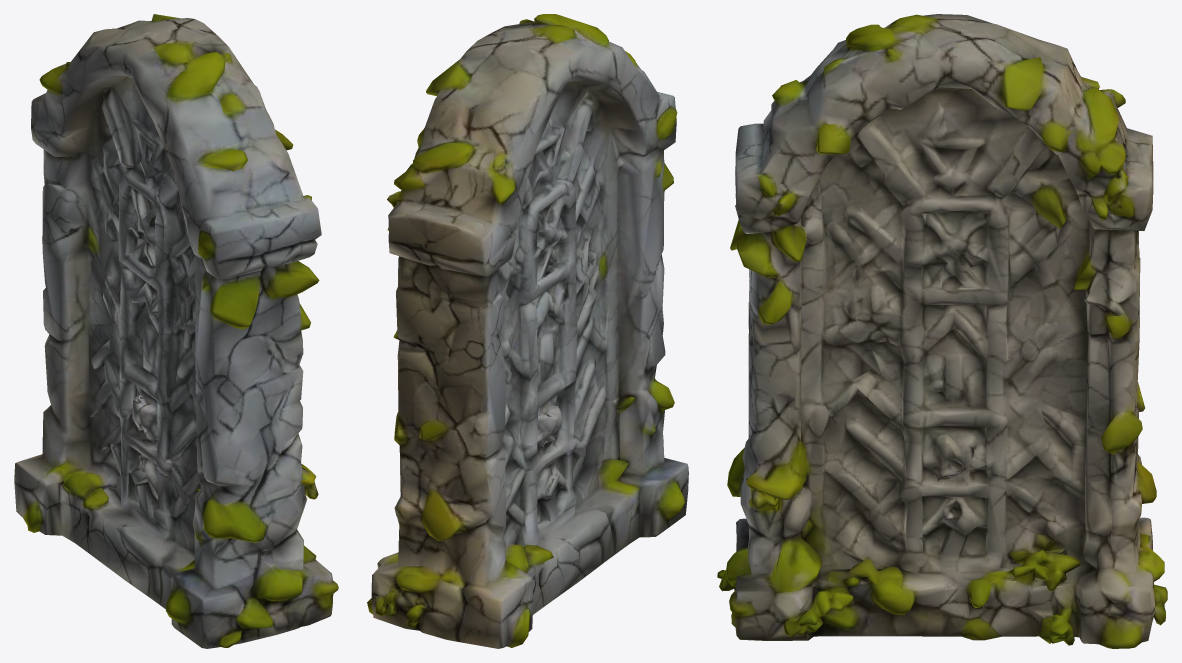
The model's file is ruin_grave_marker.glb.
3 views of the same model, side by side, from view 1: azimuth 30°, elevation 25°; view 2: azimuth 150°, elevation 25°; view 3: azimuth 270°, elevation 25° (orthographic). The views are drawn at different scales.
Visible parts, largest first — view 1: tripo_node_fa6c0dff-9632-4dbf-b76e-59324e9e4b20; view 2: tripo_node_fa6c0dff-9632-4dbf-b76e-59324e9e4b20; view 3: tripo_node_fa6c0dff-9632-4dbf-b76e-59324e9e4b20.
Part boxes in pixels (x1=…): tripo_node_fa6c0dff-9632-4dbf-b76e-59324e9e4b20: x1=14, y1=14, x2=338, y2=648; tripo_node_fa6c0dff-9632-4dbf-b76e-59324e9e4b20: x1=367, y1=14, x2=688, y2=648; tripo_node_fa6c0dff-9632-4dbf-b76e-59324e9e4b20: x1=717, y1=14, x2=1167, y2=648.
Size of the model in its own units: 0.3123 by 0.9983 by 0.6901.
1 material, 1 textured.
